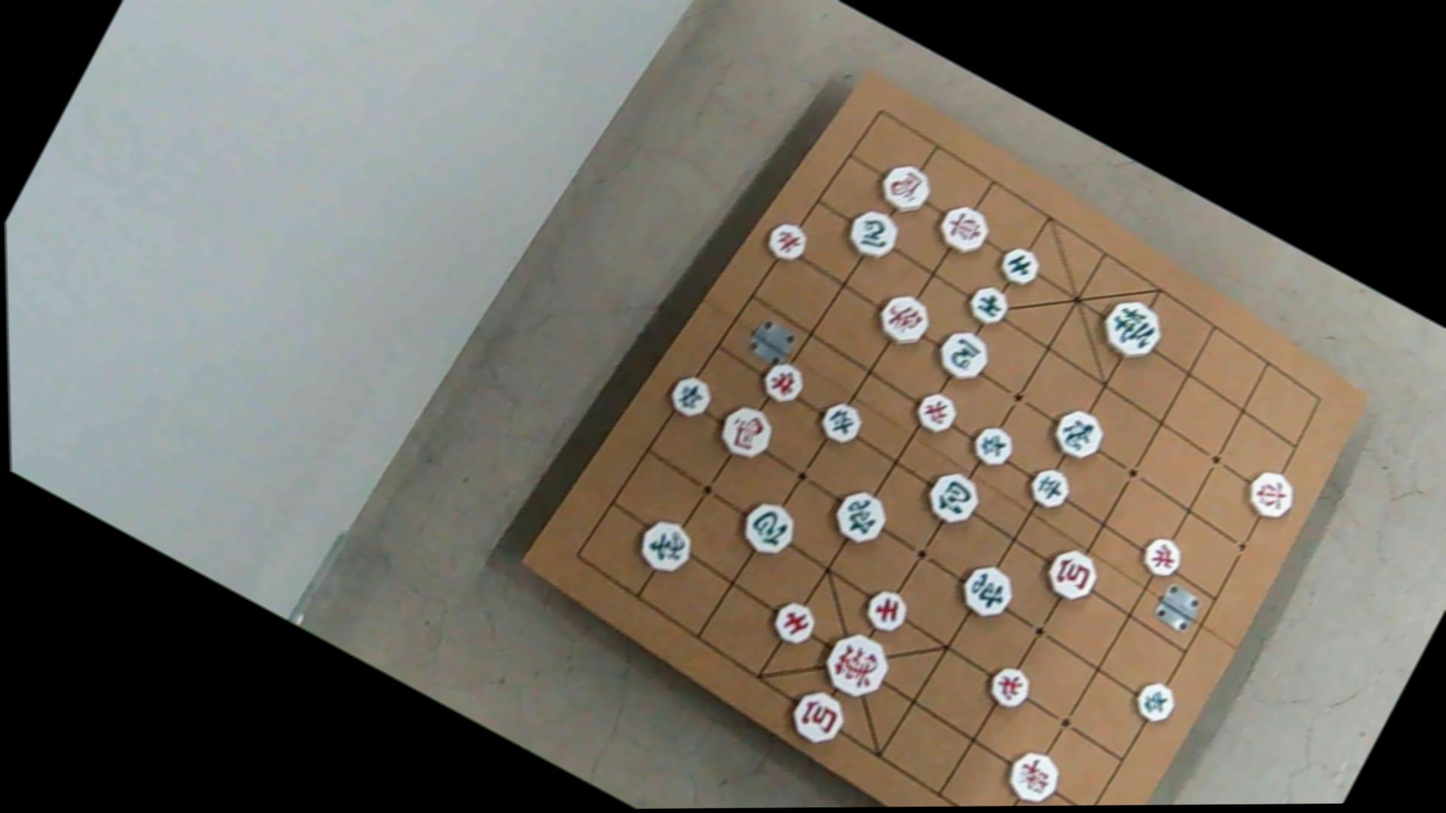cha_green: (953, 558, 1020, 624), (826, 483, 894, 548)
cha_red: (929, 194, 993, 257), (1237, 463, 1301, 524)
jol_green: (1129, 674, 1182, 726), (812, 395, 865, 446), (664, 368, 716, 419), (1022, 463, 1075, 513), (964, 419, 1016, 469)
jol_red: (981, 659, 1036, 713), (758, 356, 812, 408), (908, 385, 961, 436), (1136, 530, 1188, 581), (755, 215, 807, 265)
ma_green: (840, 200, 906, 264), (931, 322, 996, 385)
ma_red: (712, 400, 780, 467), (874, 158, 939, 221)
po_green: (731, 494, 799, 560), (920, 464, 986, 529)
po_red: (784, 684, 853, 751), (1038, 544, 1104, 608)
sa_green: (961, 279, 1012, 328), (995, 240, 1045, 289)
sa_red: (764, 596, 820, 650), (857, 584, 913, 638)
sang_green: (630, 513, 700, 581), (1045, 402, 1111, 466)
sang_red: (868, 285, 934, 350), (999, 744, 1067, 805)
wang_green: (1094, 290, 1170, 364)
wang_red: (815, 623, 898, 705)
